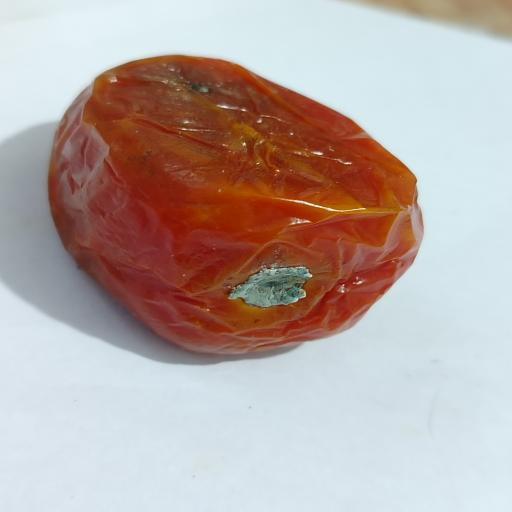spoiled: (48, 56, 422, 353)
